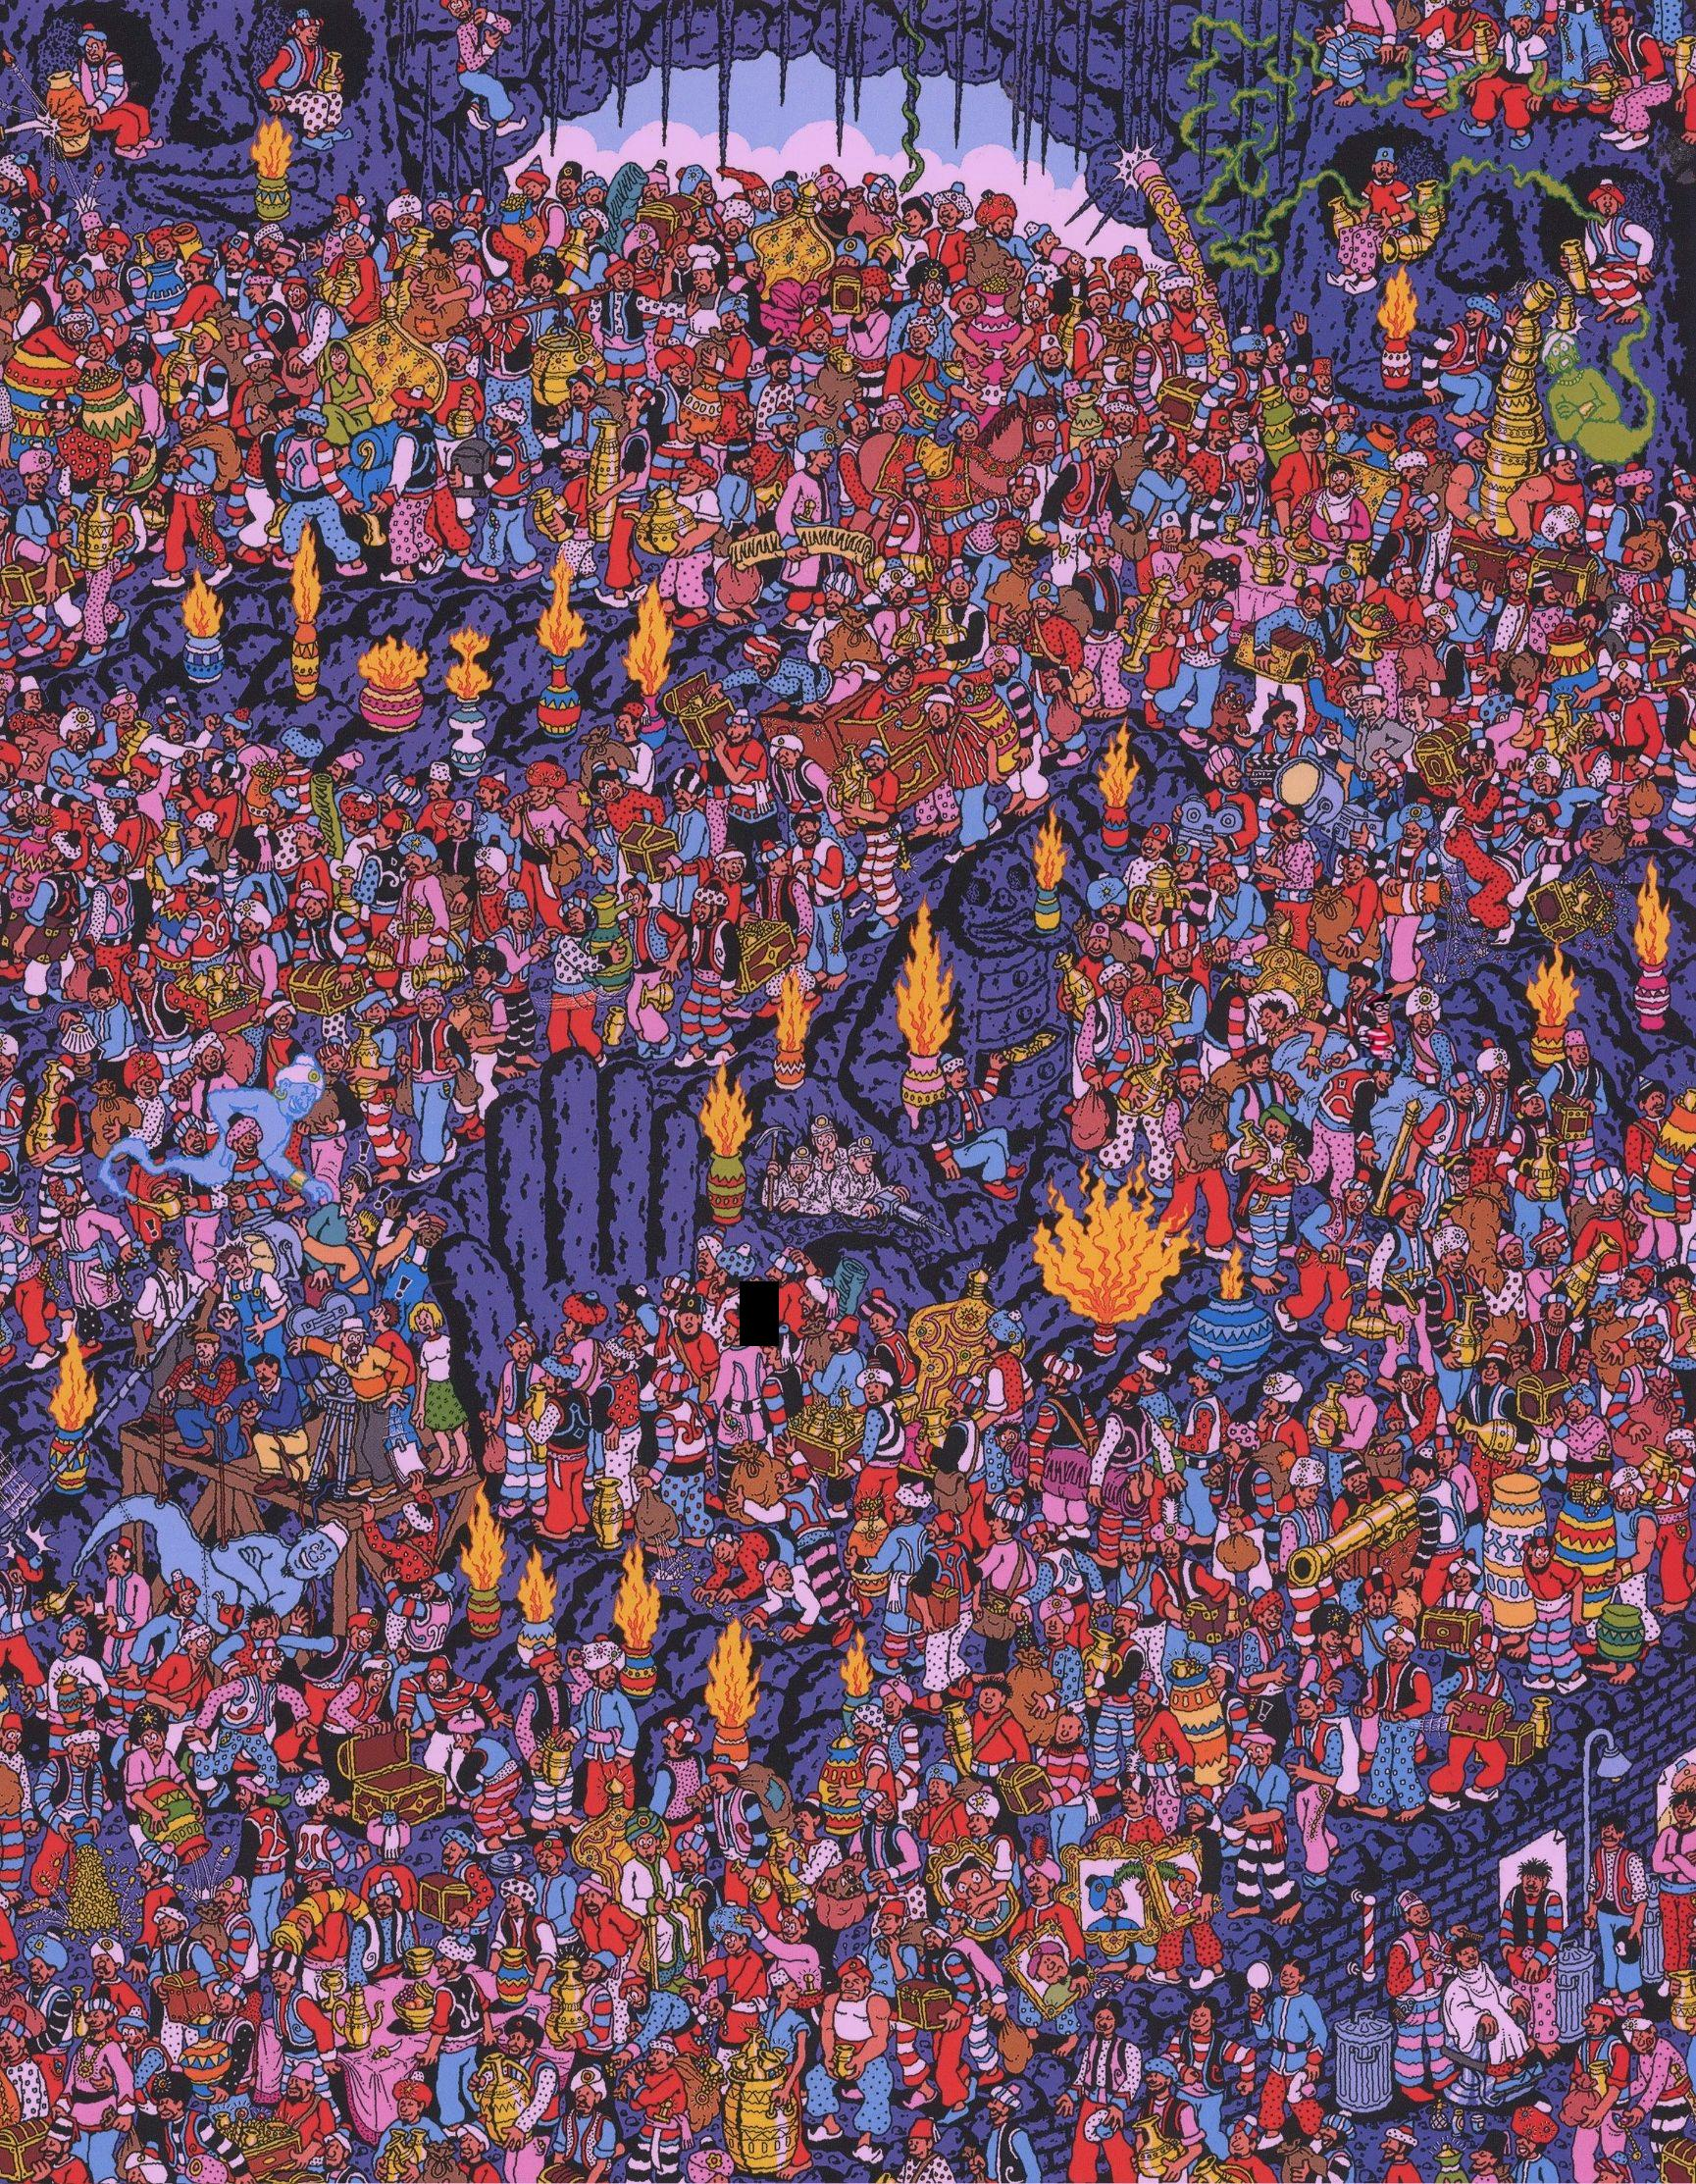waldos: (1359, 993, 1398, 1058)
